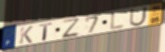7: (85, 14, 101, 34)
K: (18, 25, 35, 45)
L: (109, 10, 126, 32)
T: (38, 22, 54, 42)
U: (128, 6, 149, 28)
Z: (61, 17, 80, 39)
